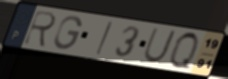3: (114, 25, 141, 59)
G: (52, 15, 84, 52)
I: (93, 20, 114, 57)
Q: (168, 30, 201, 73)
R: (21, 8, 59, 49)
U: (142, 27, 179, 66)
